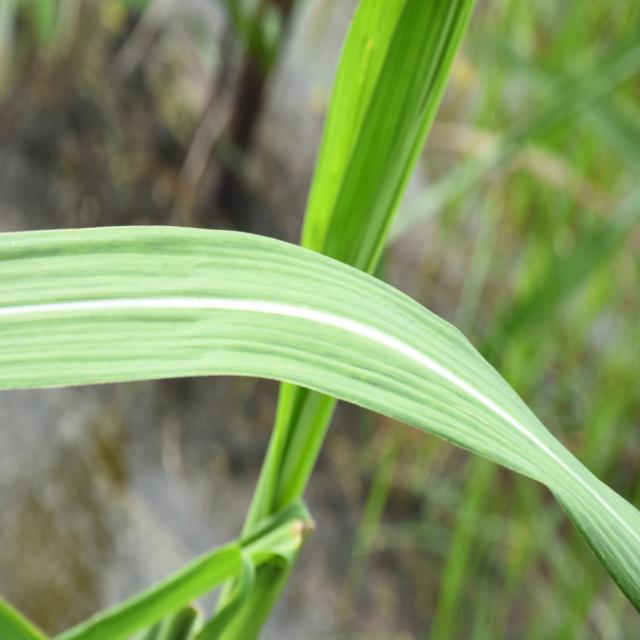Sugarcane: (0, 233, 640, 620)
